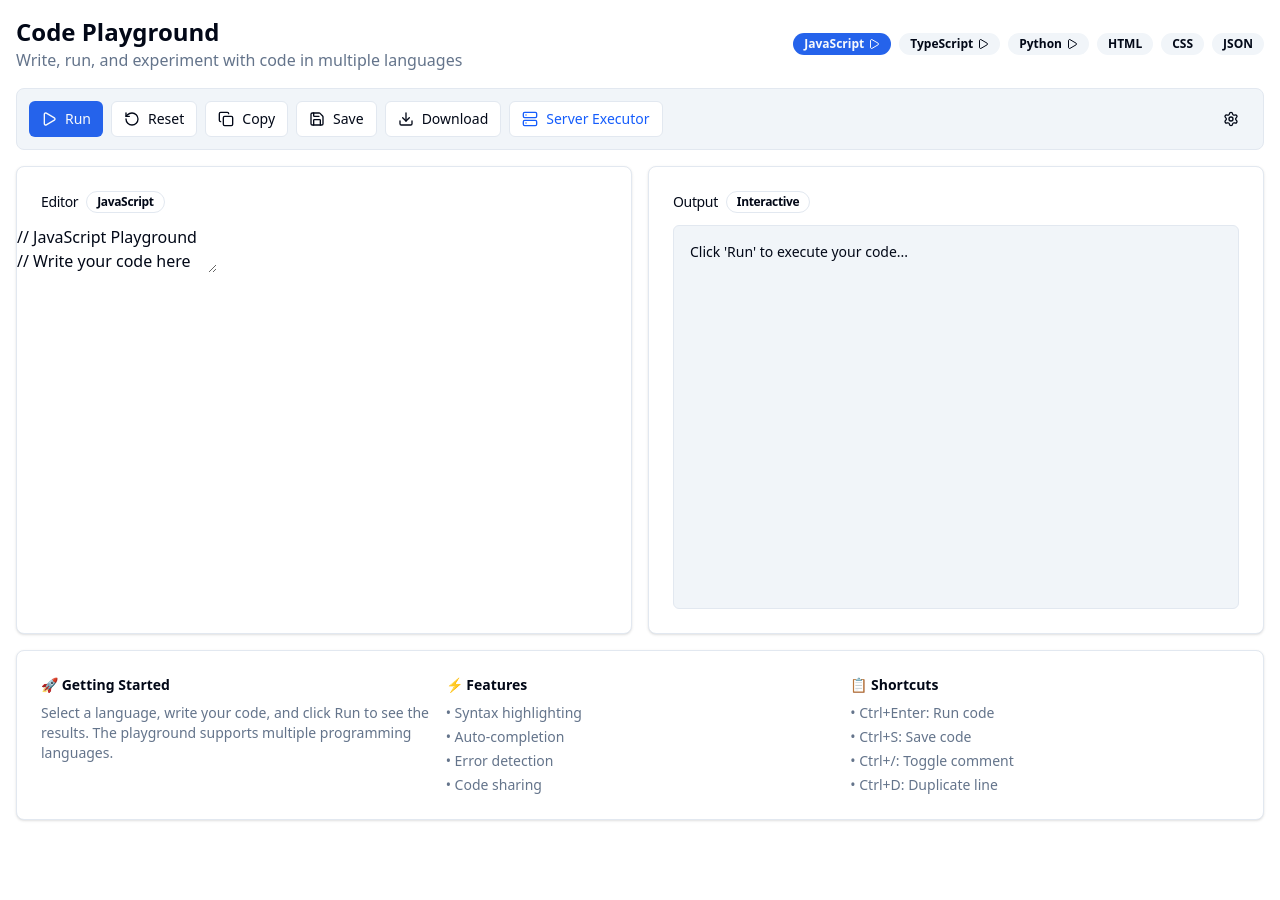
Scenario: CodePlayground › handles code execution errors gracefully
Replace the text in the text box with test id "monaco-editor" with "this.will.cause.an.error()". click: (117, 249)
box: [17,225,217,273]
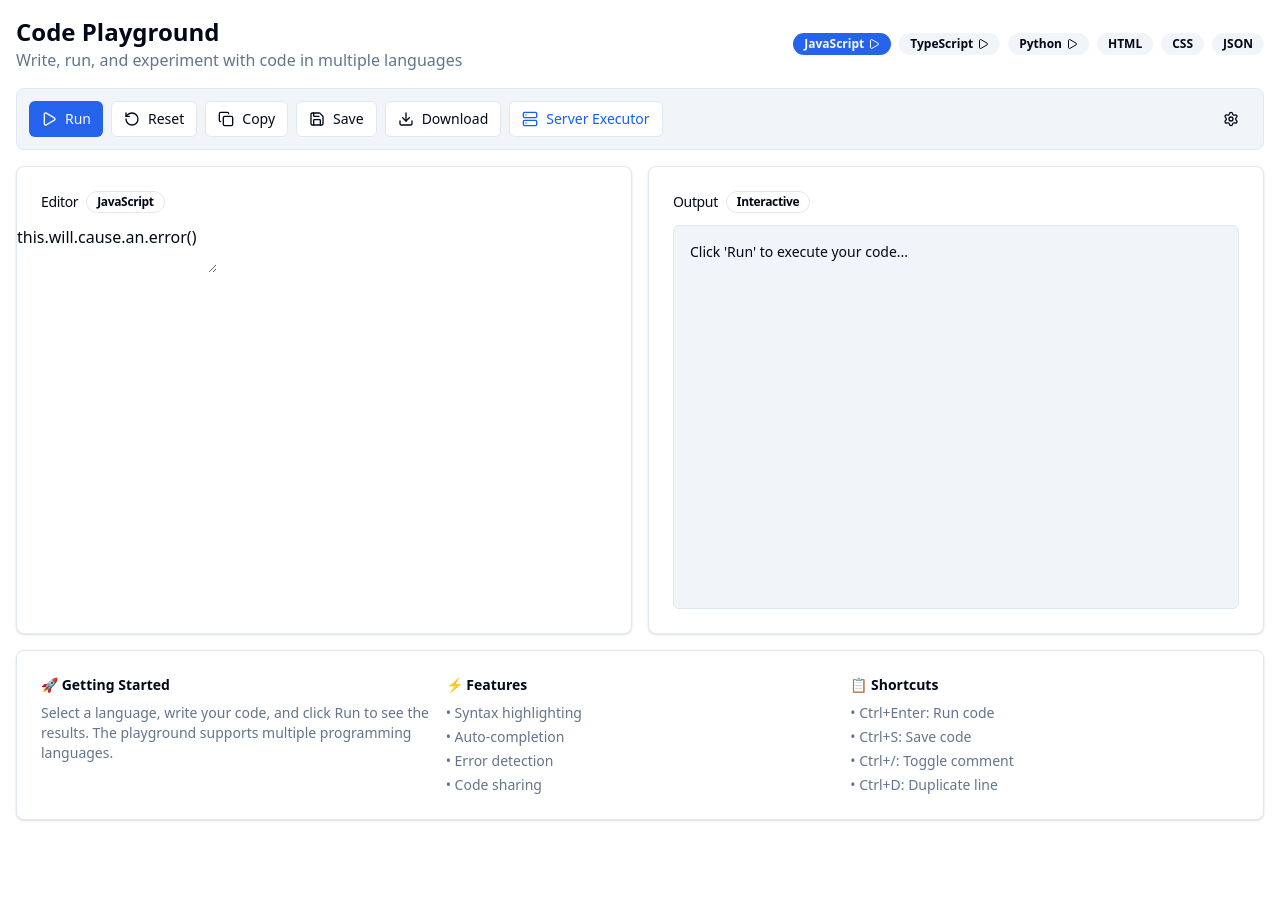
Click the button "Run". click: (66, 119)
box: [29,101,103,137]
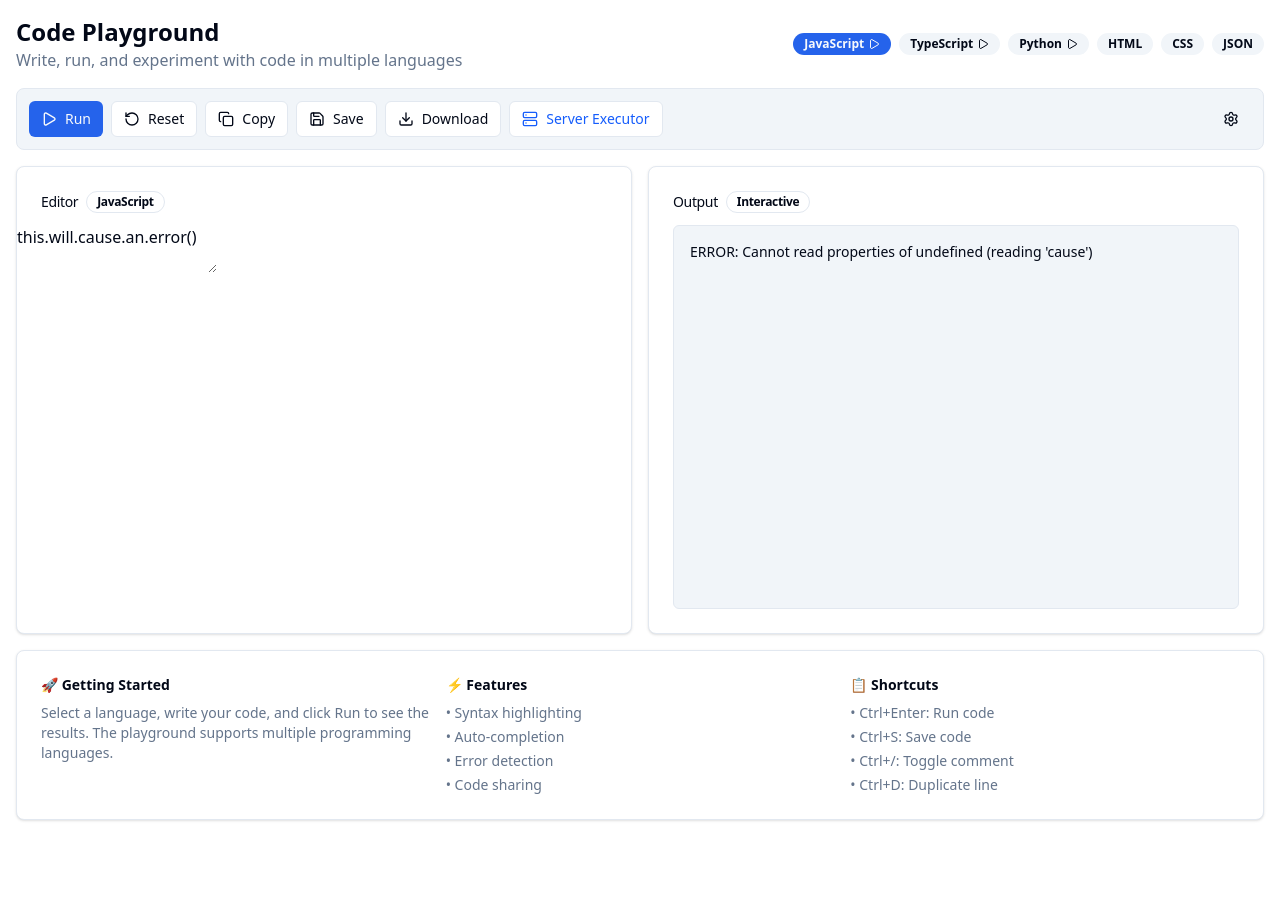
Now the text "ERROR: Cannot read properties of undefined (reading 'cause')" is shown, box [690,242,1093,261]
